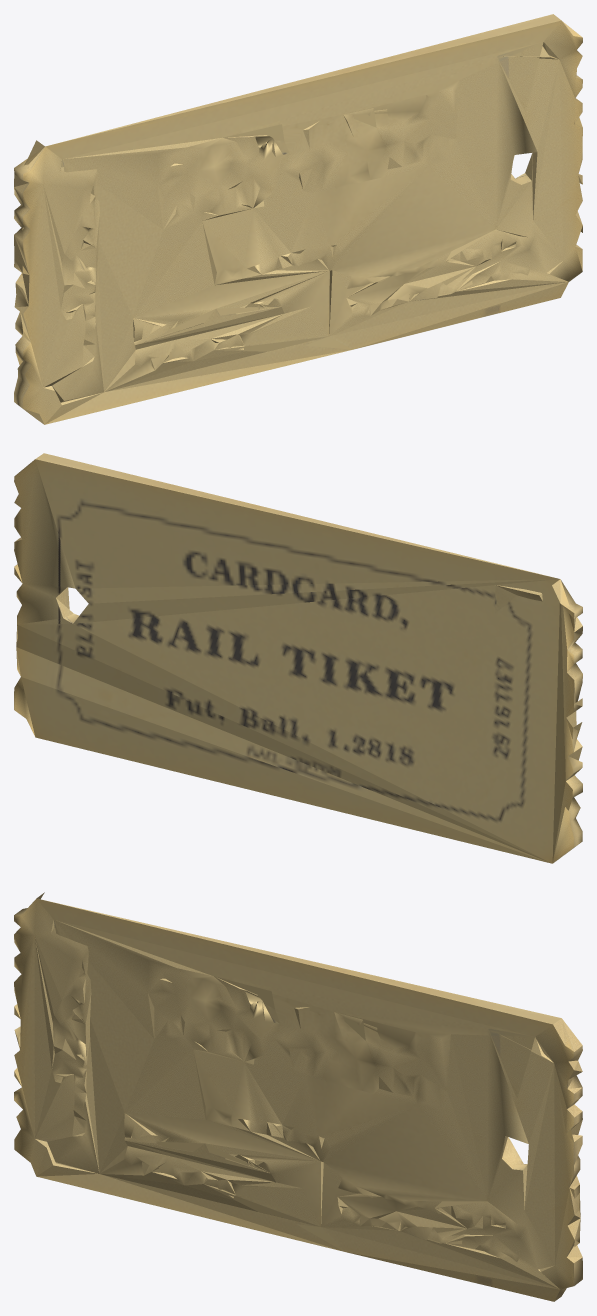
Rendered from TrainTicket.fbx.
3 renders of one model, top to bottom at view 1: azimuth 30°, elevation 25°; view 2: azimuth 150°, elevation 25°; view 3: azimuth 330°, elevation 25°, orthographic.
Parts seen in each view (by area): view 1: Mesh_0; view 2: Mesh_0; view 3: Mesh_0.
Boxes of the visible parts, left/top/right/bottom form: Mesh_0: left=14, top=14, right=582, bottom=424; Mesh_0: left=14, top=453, right=582, bottom=863; Mesh_0: left=14, top=892, right=582, bottom=1301.
Bounding box in the file's own units: 190 × 90.31 × 5.95.
Materials: 1 (1 with a texture image).
